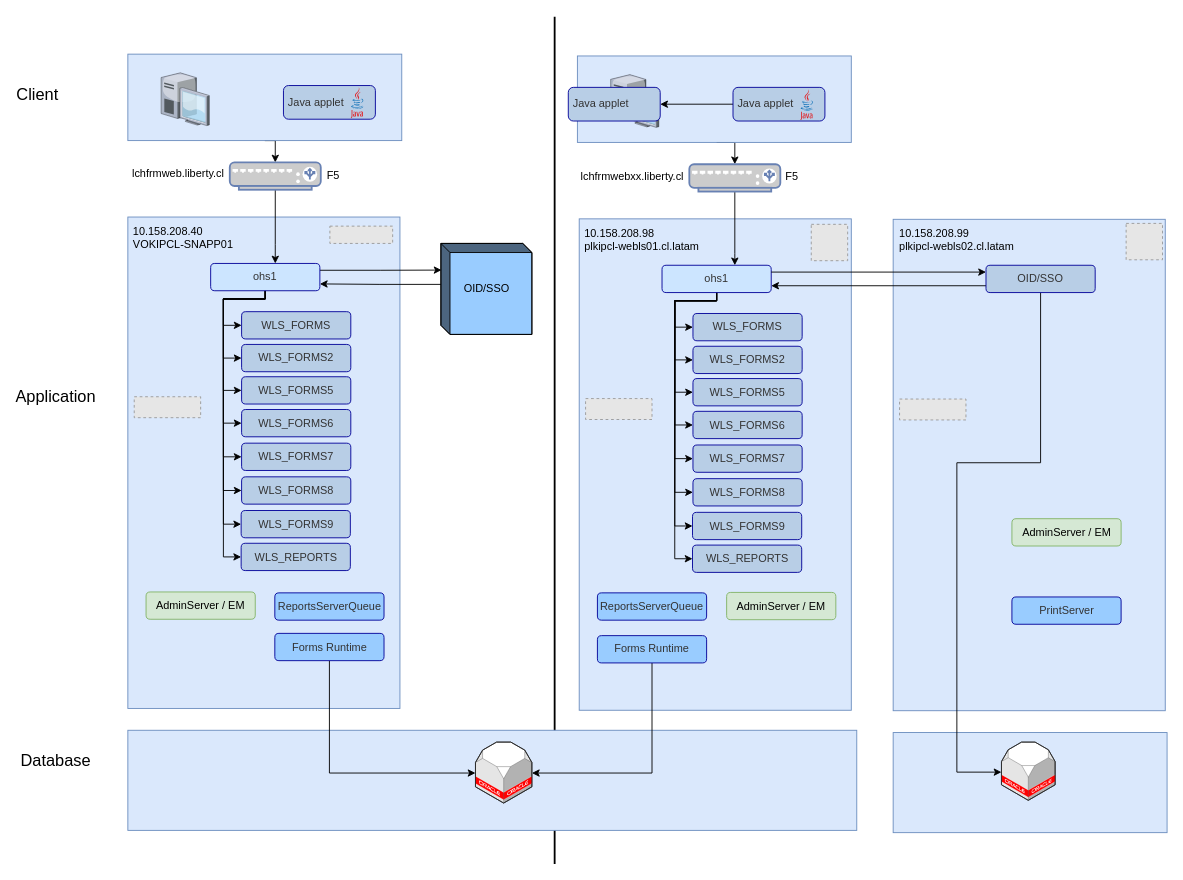
Image size: 1183x880. Some labels were removed from this diagram. Grey dashed boxes stand in for pictures. The centre of each missing label's shape, as x and y in pixels:
AXIS RAC 12c: [503,772]
OID/SSO RAC 12c: [1028,770]
